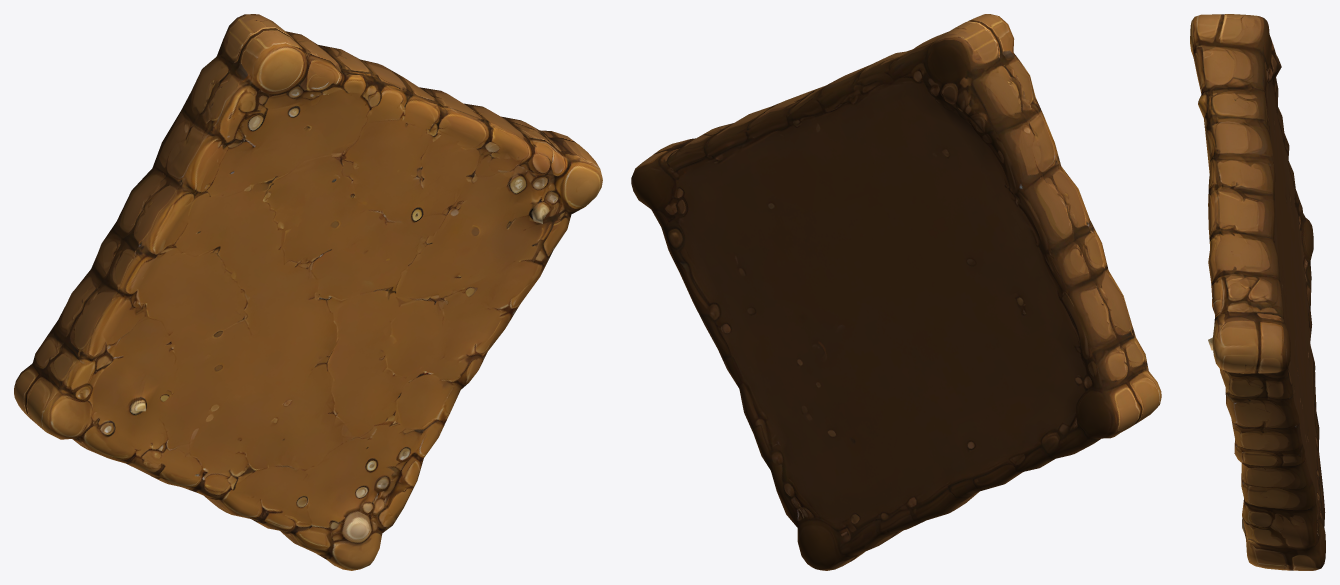
File: baldosa_tierra.fbx
3 renders of one model, left to right at view 1: azimuth 30°, elevation 25°; view 2: azimuth 150°, elevation 25°; view 3: azimuth 270°, elevation 25°, orthographic. The views are drawn at different scales.
Visible parts, largest first — view 1: tripo_node_c9ddae5d; view 2: tripo_node_c9ddae5d; view 3: tripo_node_c9ddae5d.
Part boxes in pixels (left/top/right/bottom): tripo_node_c9ddae5d: left=14, top=14, right=602, bottom=570; tripo_node_c9ddae5d: left=631, top=14, right=1161, bottom=570; tripo_node_c9ddae5d: left=1190, top=14, right=1325, bottom=570.
Bounding box in the file's own units: 0.9944 × 1 × 0.2451.
1 material, 1 textured.
